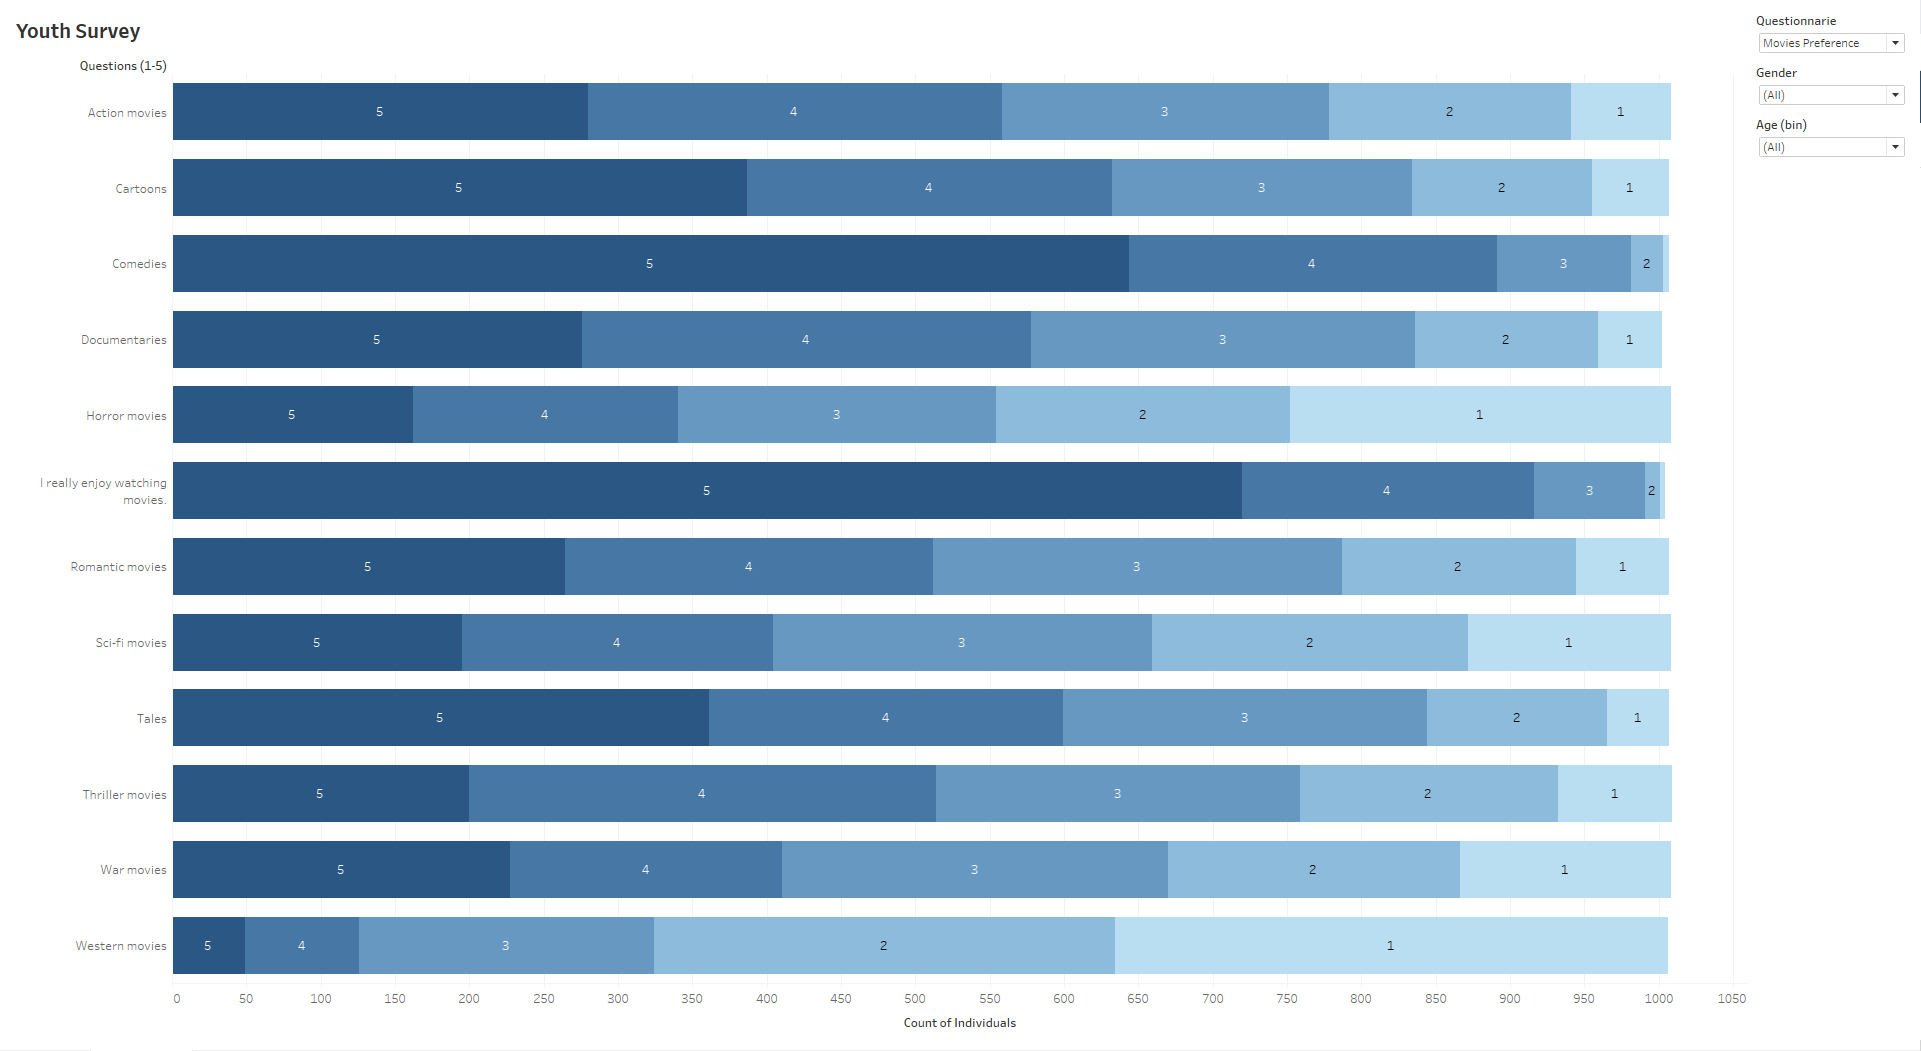

The page's visual inventory and layout, read from the dashboard file:
{"tool":"tableau","page":{"name":"Dashboard 1","canvas":[1000,1000],"units":"permille","ordinal":0},"visuals":[{"type":"worksheet","title":"Youth Survey","mark":"Automatic","rows":["Questions (1-5)"],"cols":["Count of Individuals"],"box":[4.7,8.8,897,982.3]},{"type":"filter","title":"Youth Survey","param":"[federated.1ymoc0h1t8j2x21b9oudy0mdq3bq].[none:Questionnarie:nk]","box":[901.7,8.8,93.6,57.5]},{"type":"filter","title":"Youth Survey","param":"[federated.1ymoc0h1t8j2x21b9oudy0mdq3bq].[none:Gender:nk]","box":[901.7,66.4,93.6,57.5]},{"type":"filter","title":"Youth Survey","param":"[federated.1ymoc0h1t8j2x21b9oudy0mdq3bq].[none:Age (bin):nk]","box":[901.7,123.9,93.6,57.5]}]}

Visuals, with their boxes on the dashboard's canvas, which has no fixed pixel size, in thousandths of its width and height (x1, y1, x2, y2). These are canvas units, not pixel positions in the 1921x1051 screenshot, which may show the page scaled, cropped or inside an application window:
"Youth Survey" worksheet: [left=5, top=9, right=902, bottom=991]
"Youth Survey" filter: [left=902, top=9, right=995, bottom=66]
"Youth Survey" filter: [left=902, top=66, right=995, bottom=124]
"Youth Survey" filter: [left=902, top=124, right=995, bottom=181]
